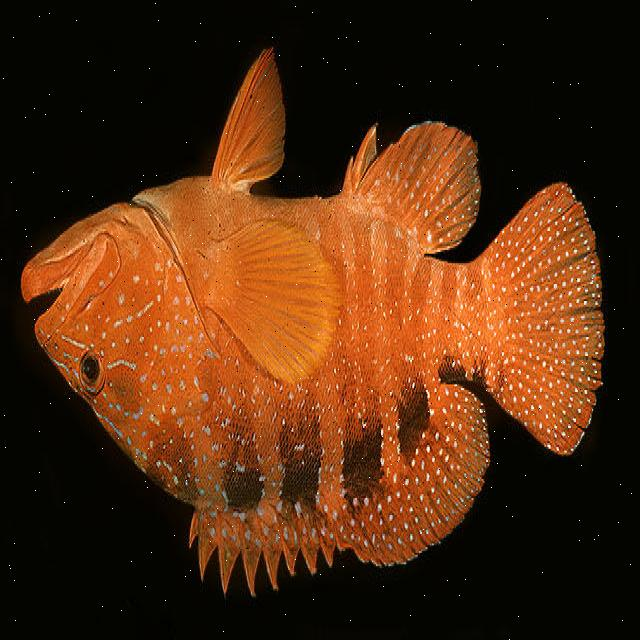ikan: (19, 45, 606, 600)
